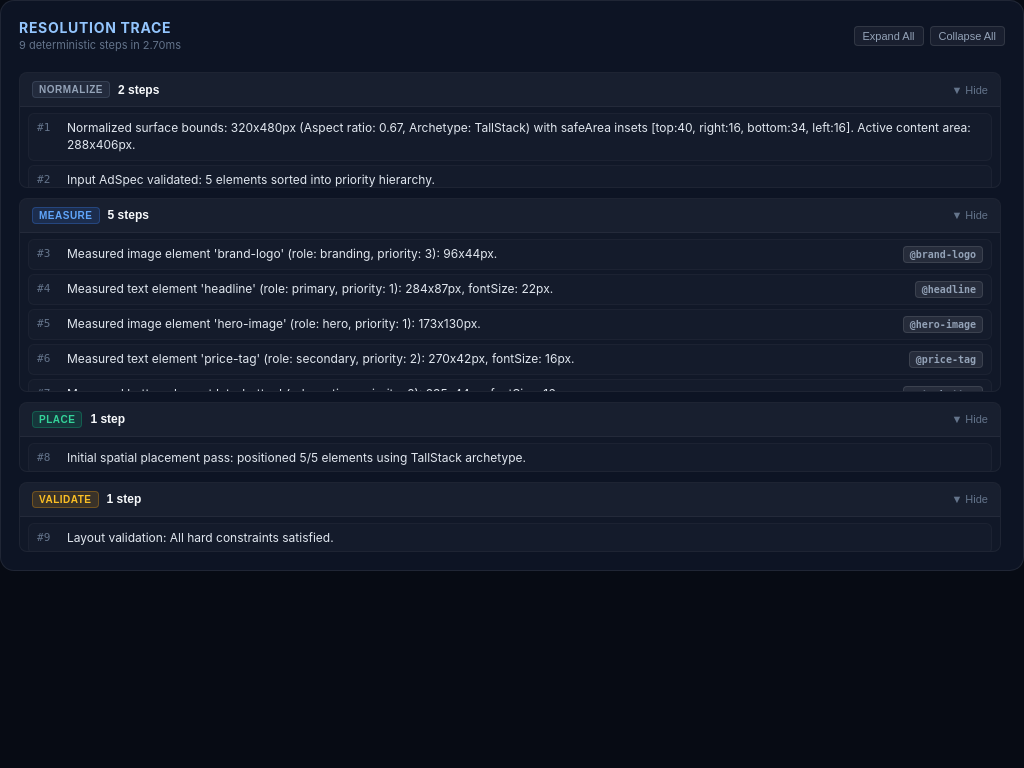
Test: ResolutionTrace (Phase 8) › supports collapsing and expanding stages
Click the button "Collapse All".
click(967, 36)  # box [930,26,1005,46]
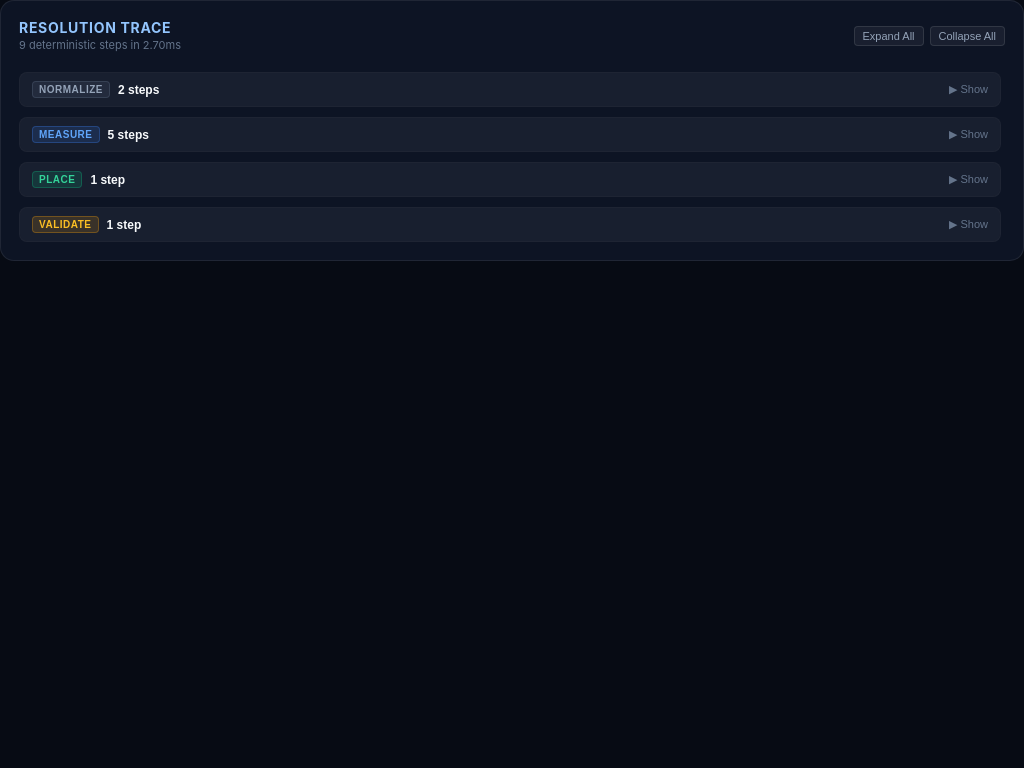
Now the 1st text "▶ Show" is shown, box [949,83,988,96]
Click the button "Expand All".
click(888, 36)  # box [854,26,924,46]
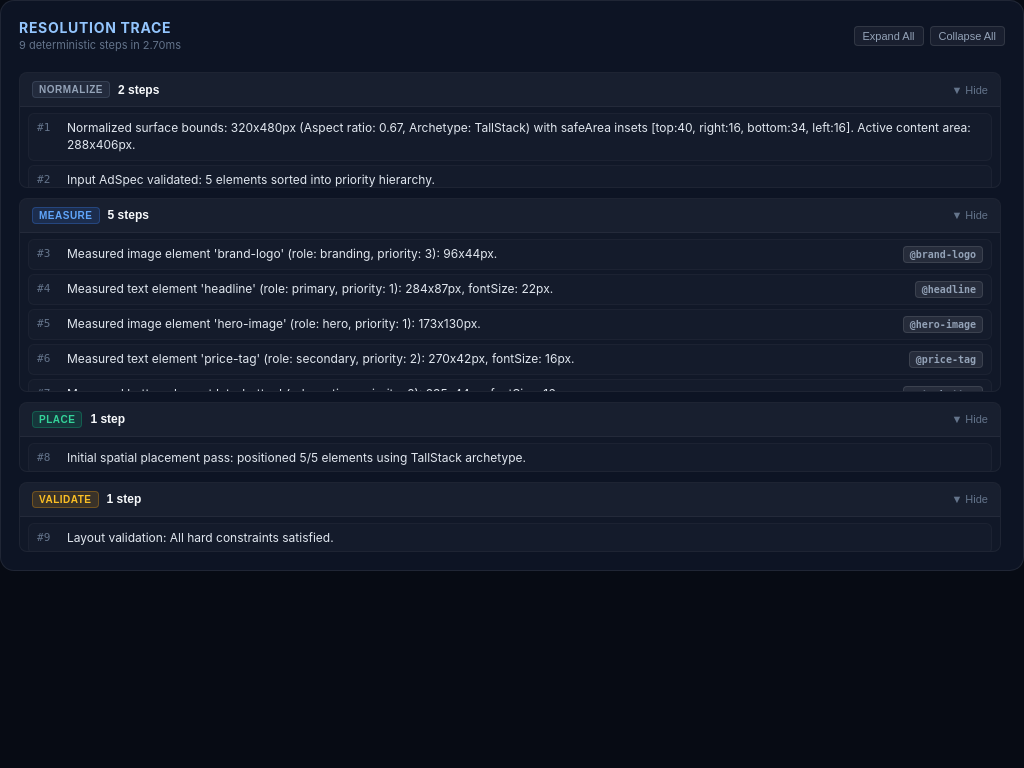
Now the 1st text "▼ Hide" is shown, box [951,84,988,96]
